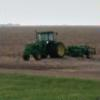Tractor: (16, 24, 81, 71)
